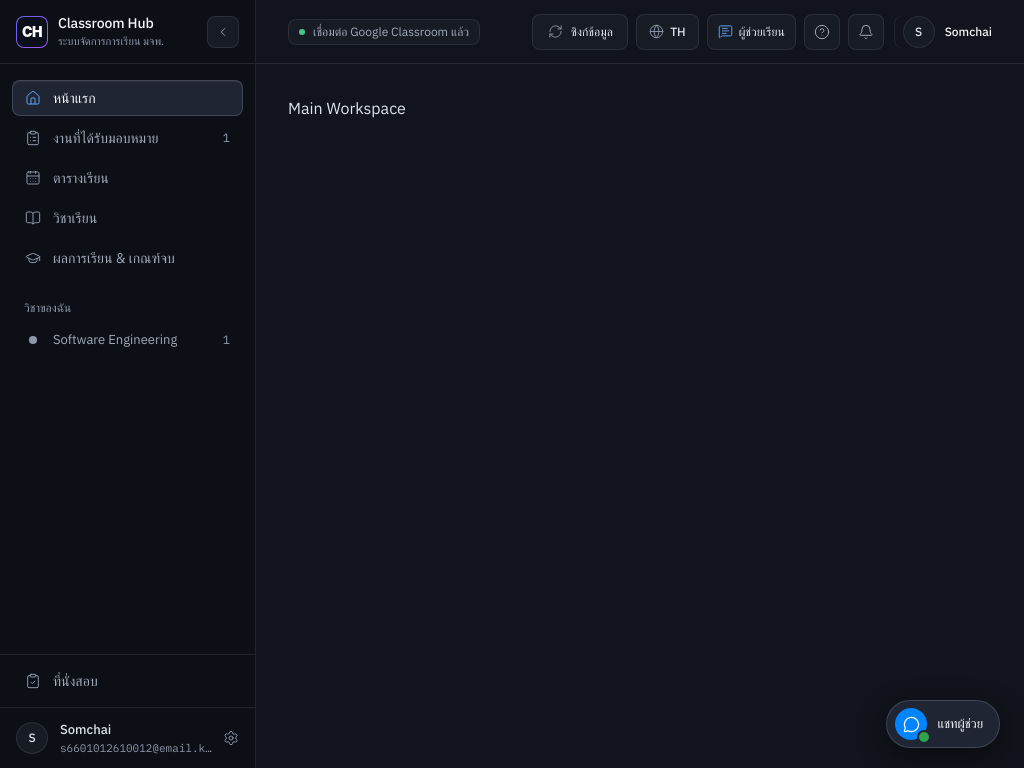
Test: Study Assistant Drawer & Gemini Frontend Service › displays a clear setup alert when server returns MISSING_API_KEY (503)
Click the button with test id "floating-assistant-trigger".
click(943, 724)  # box x1=886 y1=700 x2=1000 y2=748
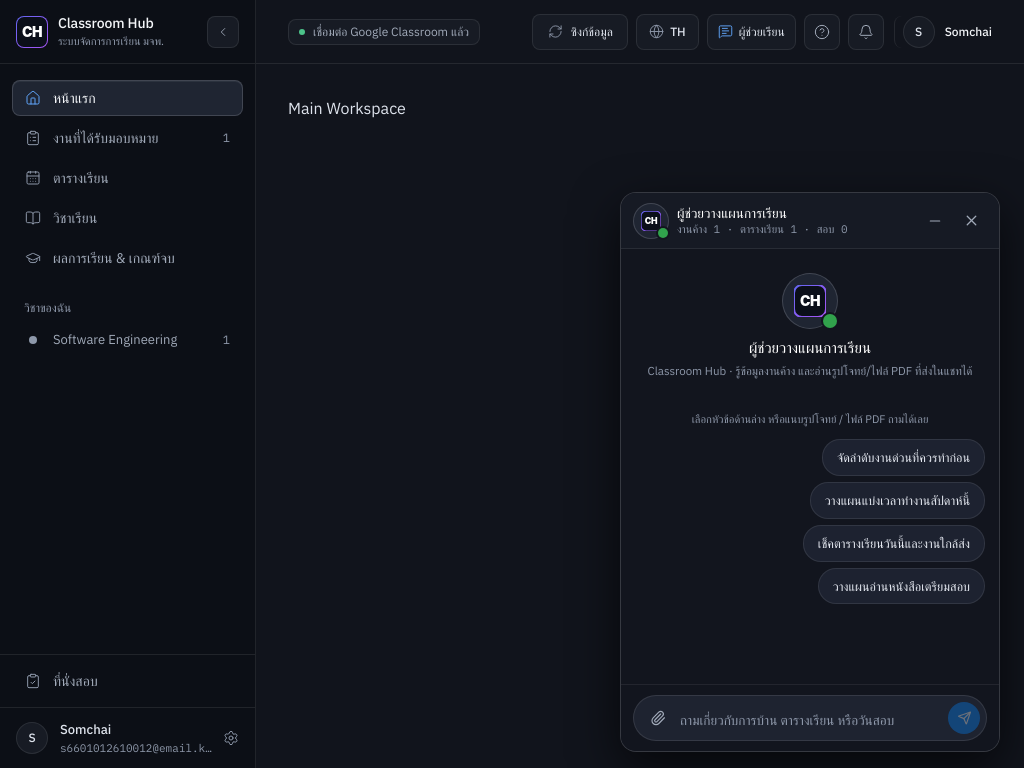
Type "สวัสดี" into the text box with placeholder "ถามเกี่ยวกับการบ้าน ตารางเรียน หรือวันสอบ".
click(811, 720); type("สวัสดี")  # box x1=680 y1=706 x2=942 y2=734
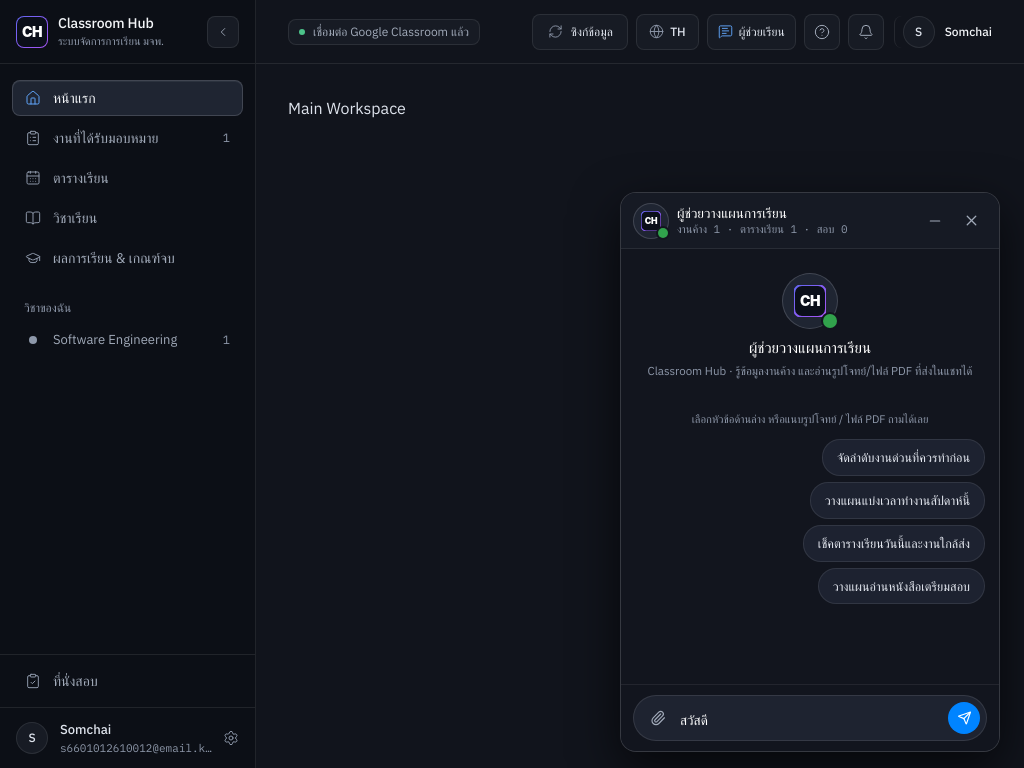
Click the button named "ส่งข้อความ".
click(964, 718)  # box x1=948 y1=702 x2=980 y2=734
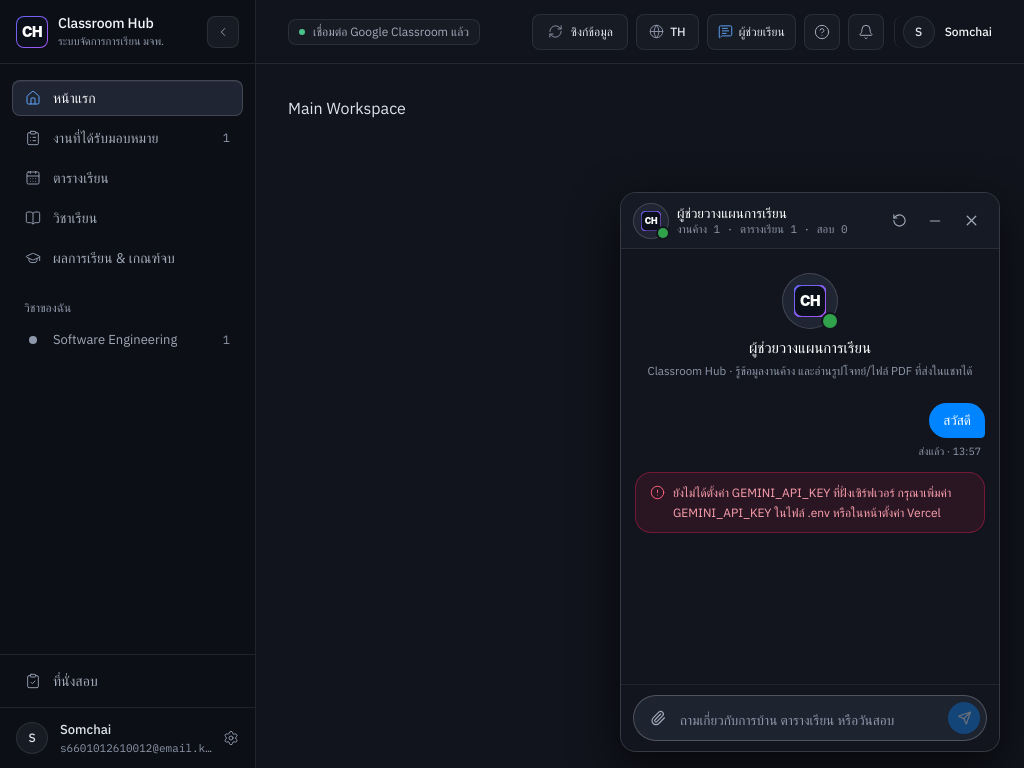
Now the message shows "GEMINI_API_KEY", box x1=673 y1=485 x2=951 y2=520
